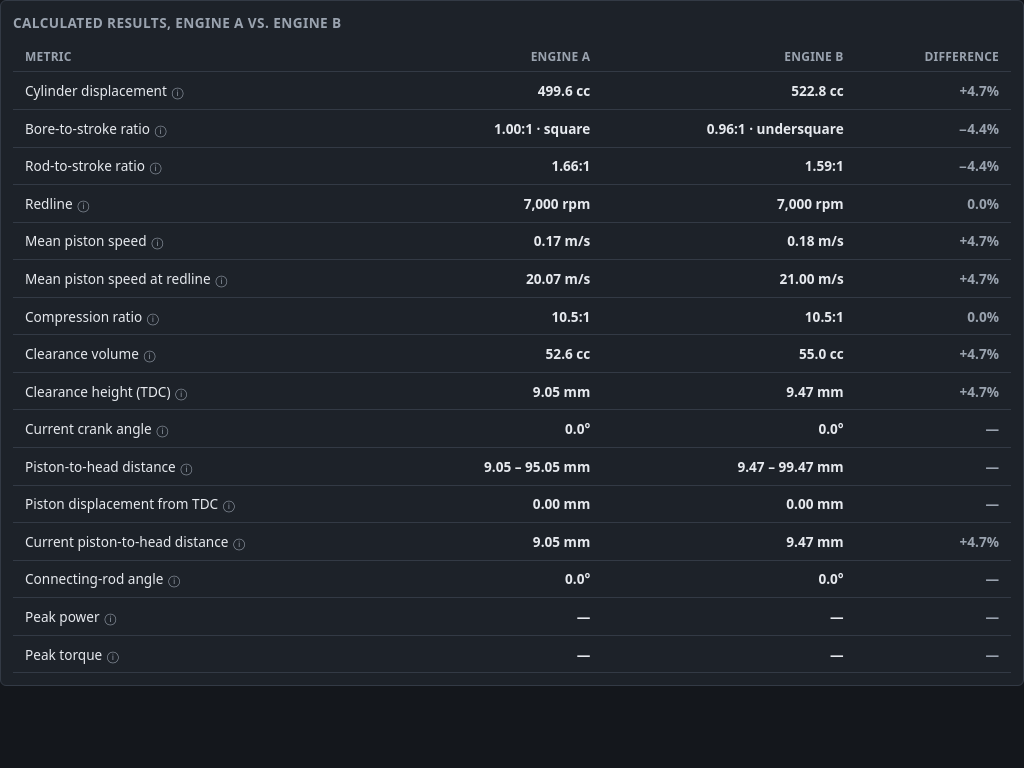
Test: ComparisonTable › metric info popups › opens the matching METRIC_INFO explainer in a full-width row when a label is clicked
Click the button "Cylinder displacement ⓘ" at (96, 91), box [25,79,385,103]
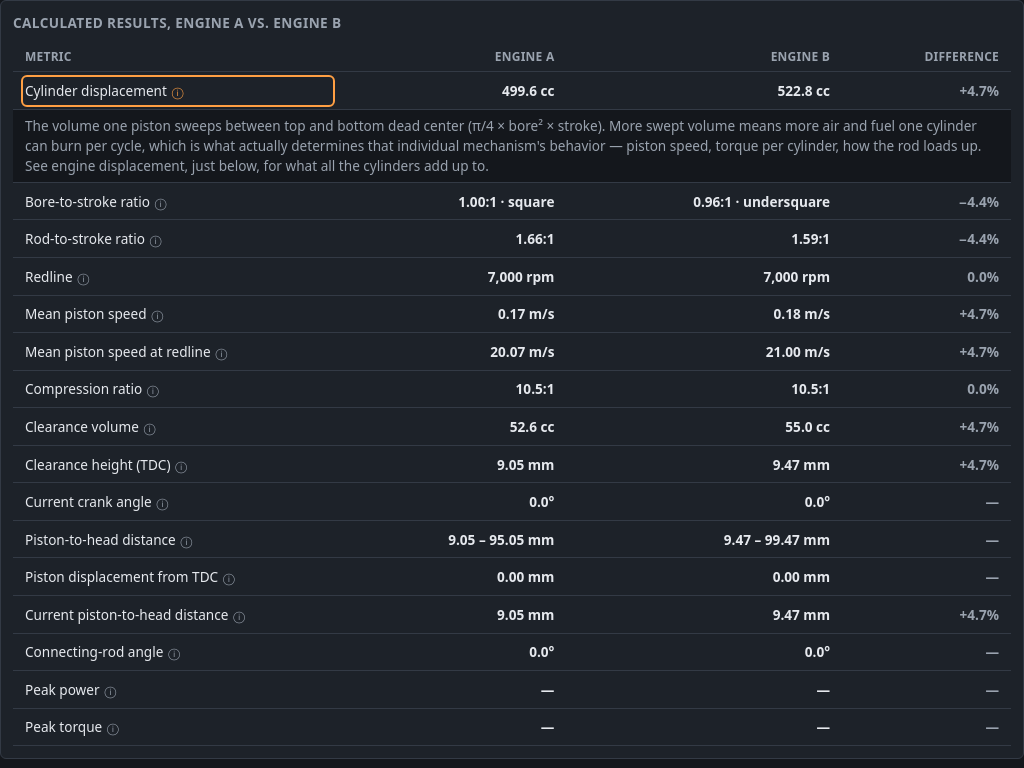
Expected: the button "Cylinder displacement ⓘ" is expanded, [25,79,331,103]
Expected: the text "The volume one piston sweeps between top and bottom dead center (π/4 × bore² × stroke). More swept volume means more air" is shown, [25,116,981,175]
